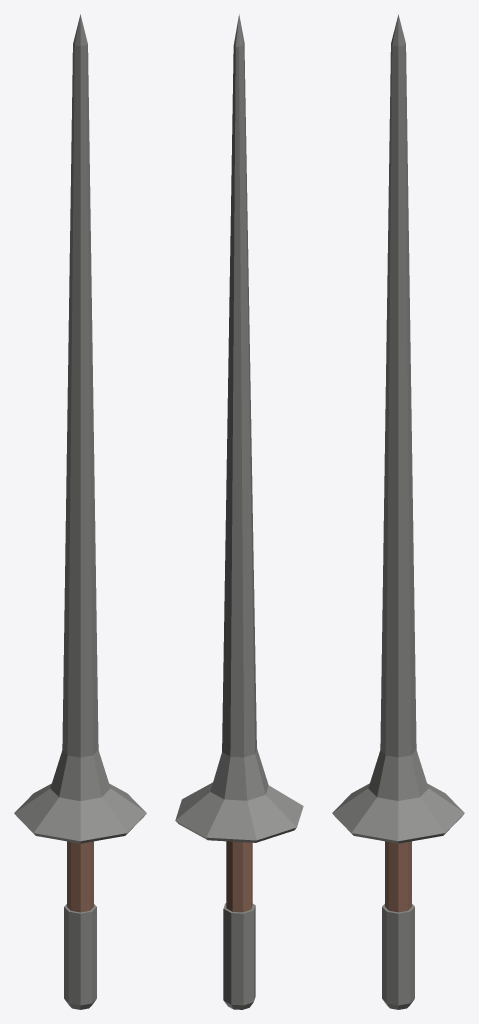
File: ankers-low-poly-medieval-weapons--lance.glb
3 renders of one model, left to right at view 1: azimuth 90°, elevation 25°; view 2: azimuth 150°, elevation 25°; view 3: azimuth 270°, elevation 25°, orthographic.
Parts seen in each view (by area): view 1: Lance; view 2: Lance; view 3: Lance.
Boxes of the visible parts, x1=… form: Lance: x1=14, y1=14, x2=146, y2=1009; Lance: x1=175, y1=14, x2=303, y2=1009; Lance: x1=332, y1=14, x2=464, y2=1009.
Bounding box in the file's own units: 0.3139 × 2.58 × 0.3139.
